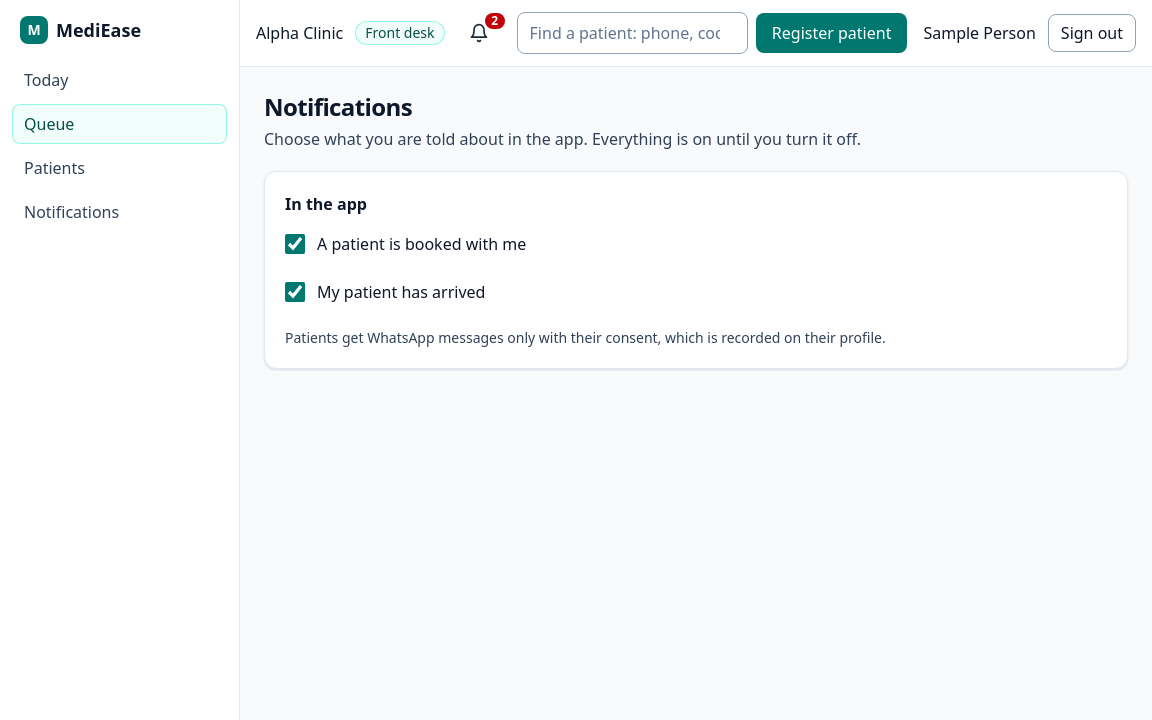
Test case: the notification bell (M6a-P7, FR-NTF-03) › shows the unread count, lists the latest and marks them all read
Click the button named "Notifications, 2 unread": x=479, y=33 [457, 17, 501, 49]
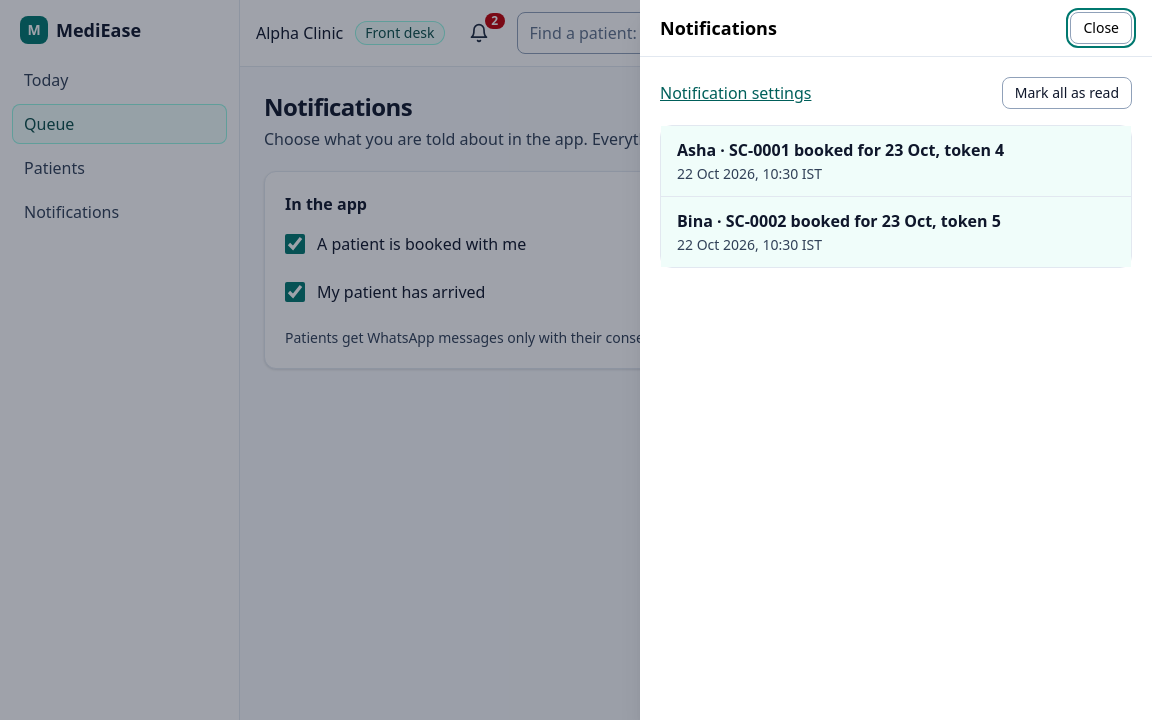
Click the button "Mark all as read": x=1067, y=93 [1002, 77, 1132, 109]
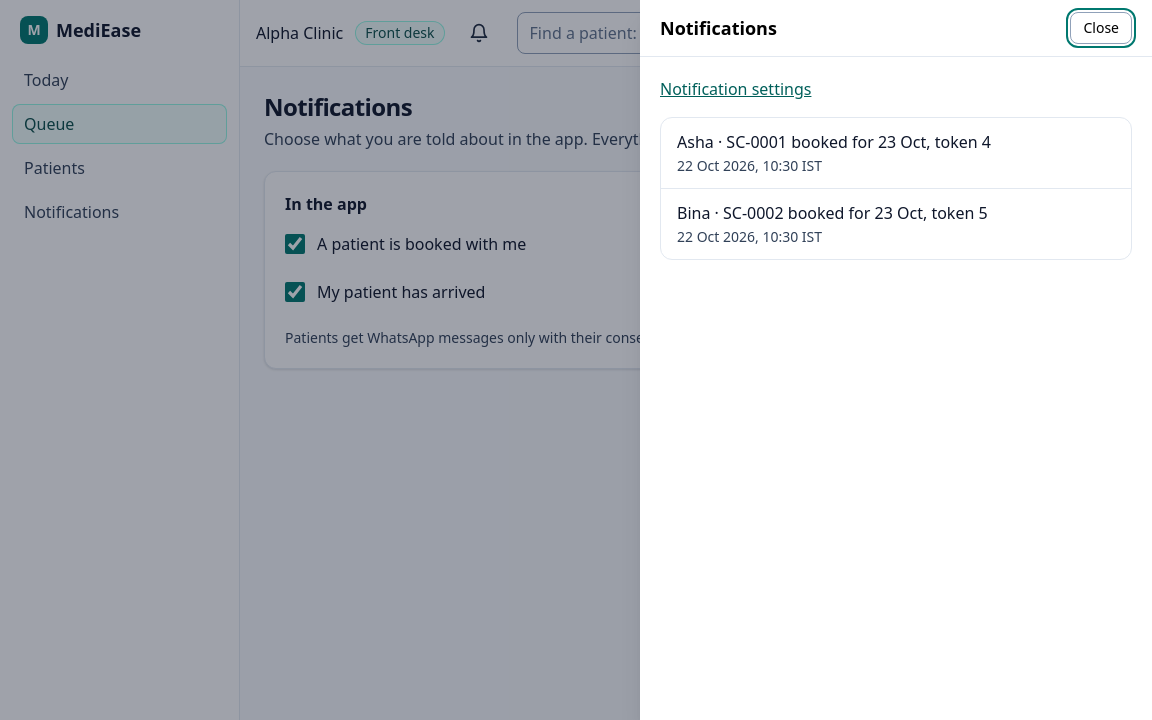
Expected: the 2nd link does not show "Unread:", [677, 131, 991, 175]
Expected: the button "Mark all as read" is gone
